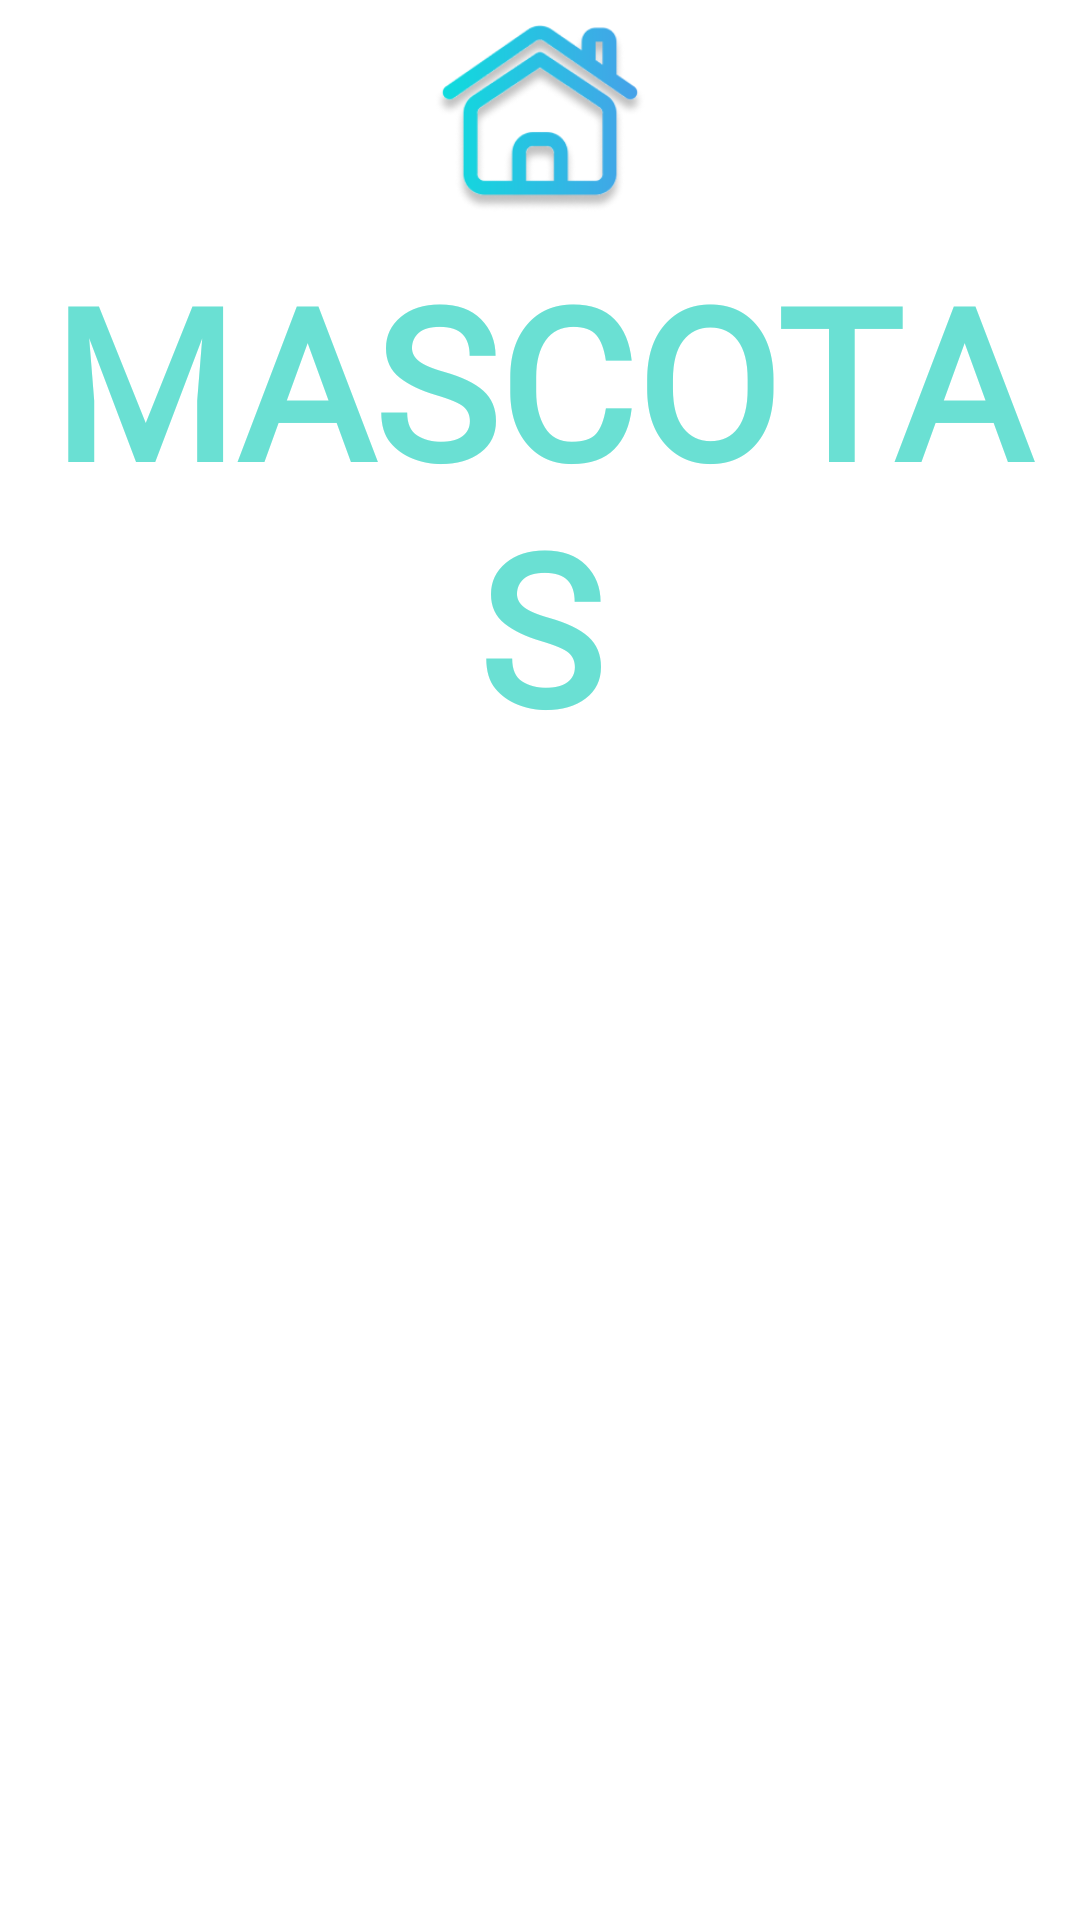

Icon bounding boxes for this 1080px x 1920px phone screenshot, format (x1, y1, x2, y2):
home: (442, 25, 638, 204)
